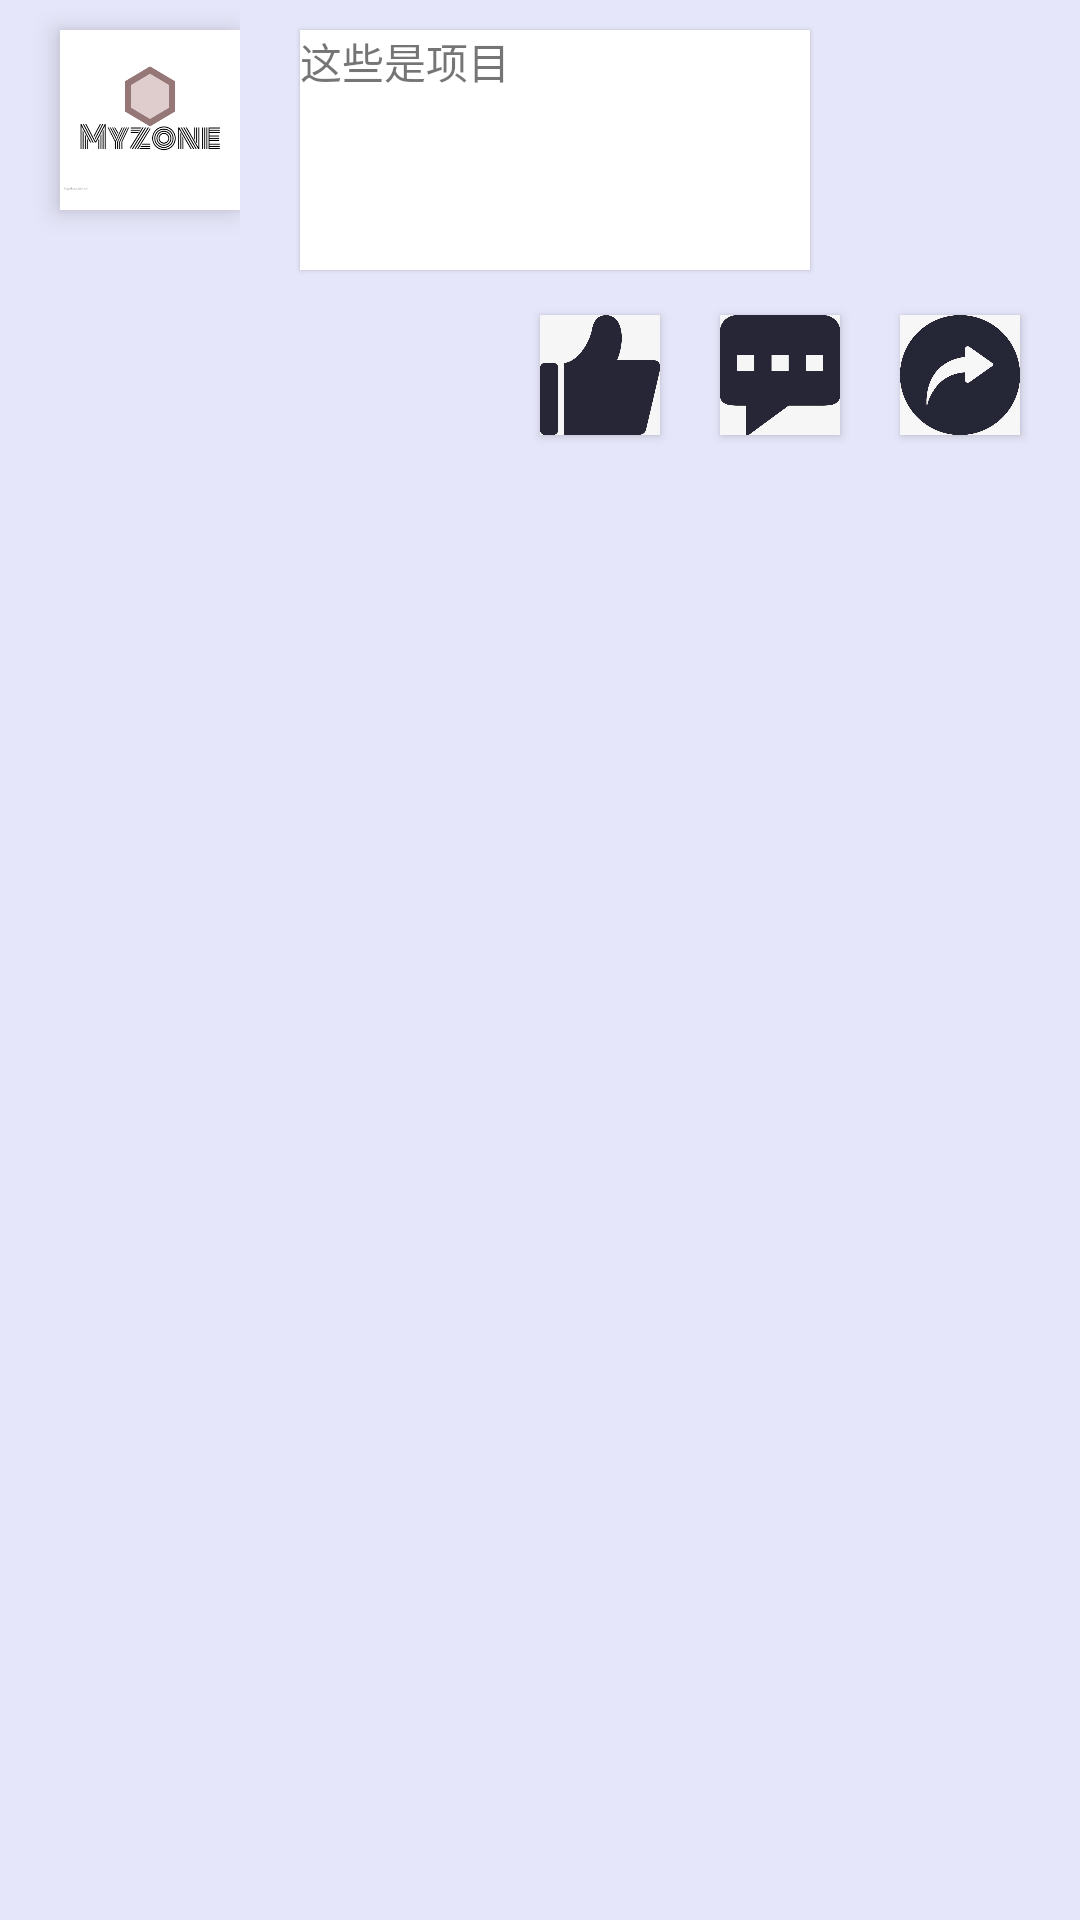

Named icons in this screenshot (1080px x 1920px) and their centers, point (x, y):
comment: point (780, 375)
like: point (600, 375)
share: point (960, 375)
